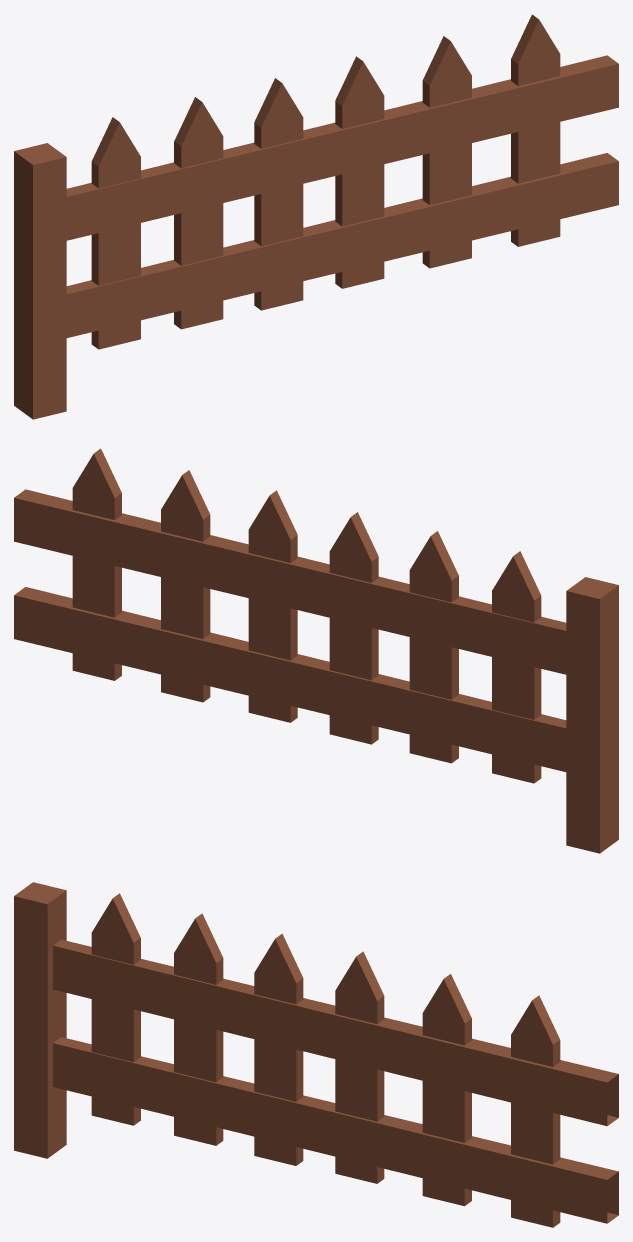
File: fence.fancy.close.R.glb
3 views of the same model, one above another, from view 1: azimuth 30°, elevation 25°; view 2: azimuth 150°, elevation 25°; view 3: azimuth 330°, elevation 25° (orthographic).
Parts seen in each view (by area): view 1: fence.fancy.close.R; view 2: fence.fancy.close.R; view 3: fence.fancy.close.R.
Boxes of the visible parts, bbox=[...] form: fence.fancy.close.R: bbox=[14, 14, 618, 419]; fence.fancy.close.R: bbox=[14, 448, 618, 853]; fence.fancy.close.R: bbox=[14, 882, 618, 1227].
Bounding box in the file's own units: 2.95 × 1.3 × 0.1655.
